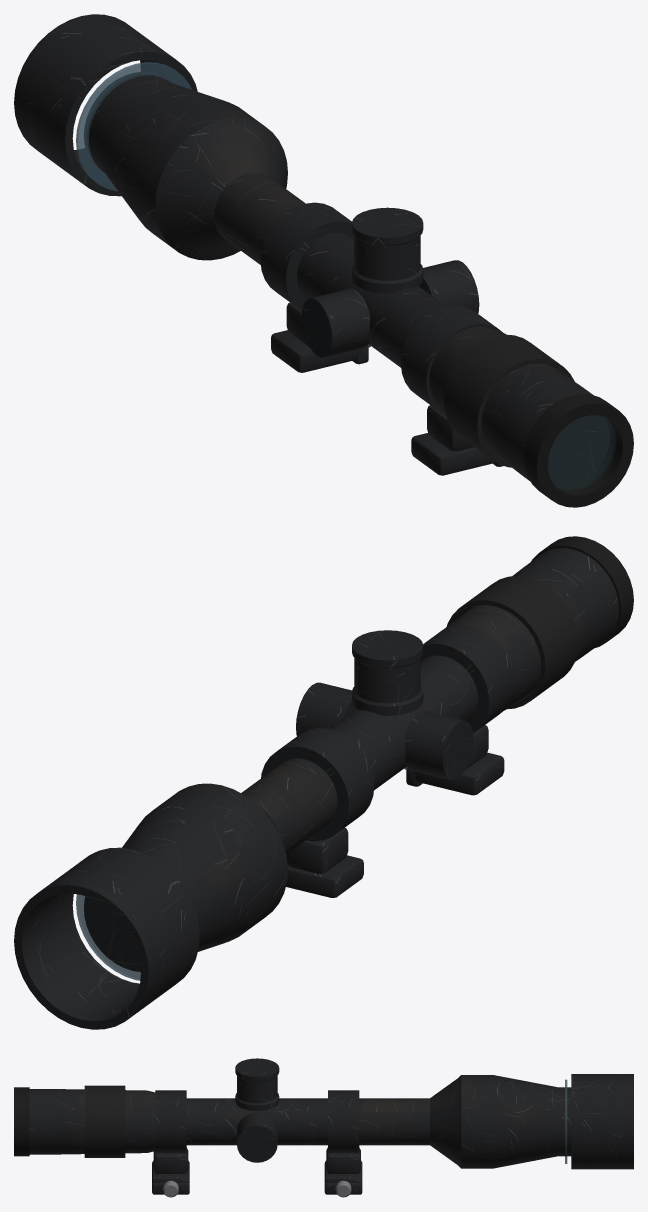
File: Optic_SniperScope.glb
3 renders of one model, top to bottom at view 1: azimuth 30°, elevation 25°; view 2: azimuth 150°, elevation 25°; view 3: azimuth 270°, elevation 25°, orthographic. The views are drawn at different scales.
Parts seen in each view (by area): view 1: Optic_SniperScope_Body; view 2: Optic_SniperScope_Body; view 3: Optic_SniperScope_Body.
Part boxes in pixels (<box>): Optic_SniperScope_Body: <box>14,14,633,507</box>; Optic_SniperScope_Body: <box>14,536,633,1029</box>; Optic_SniperScope_Body: <box>14,1058,633,1197</box>.
Bounding box in the file's own units: 0.066 × 0.082 × 0.395.
7 materials, 4 textured.
